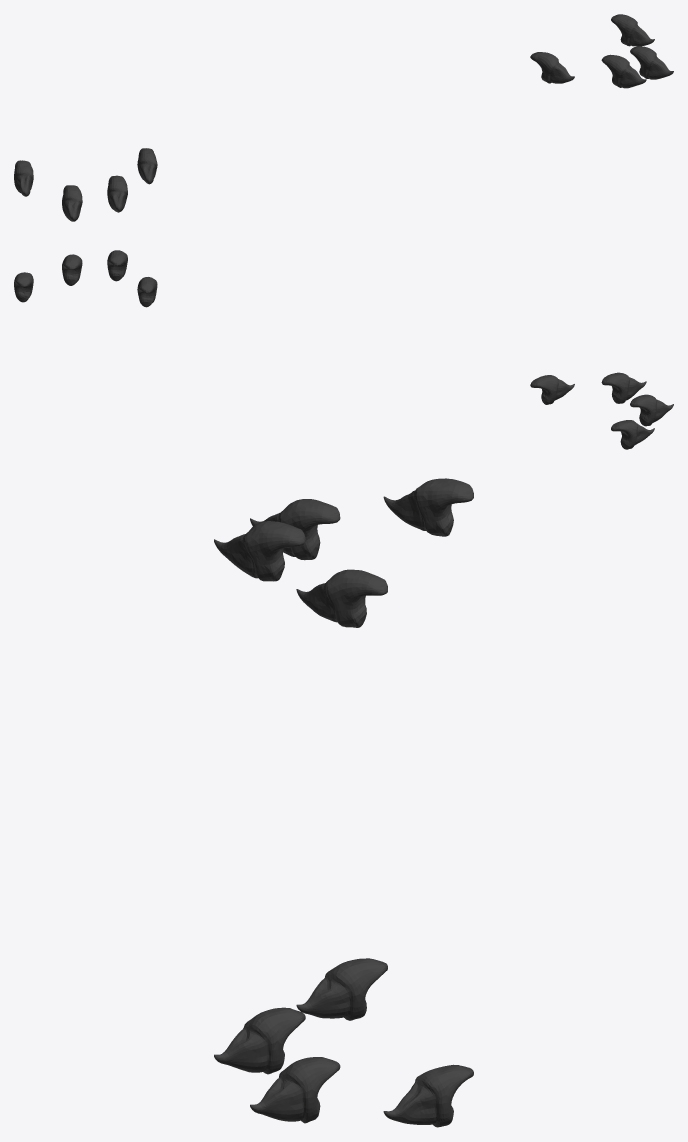
3 renders of one model, top to bottom at view 1: azimuth 30°, elevation 25°; view 2: azimuth 150°, elevation 25°; view 3: azimuth 270°, elevation 25°, orthographic. The views are drawn at different scales.
Visible parts, largest first — view 1: HL_P3_1; view 2: HL_P3_1; view 3: HL_P3_1.
Boxes of the visible parts, x1,y1,x2,y2 form: HL_P3_1: (14, 14, 673, 221); HL_P3_1: (14, 250, 673, 449); HL_P3_1: (214, 478, 473, 1127).
Bounding box in the file's own units: 0.00719 × 0.0004 × 0.00129.
1 material, 1 textured.
